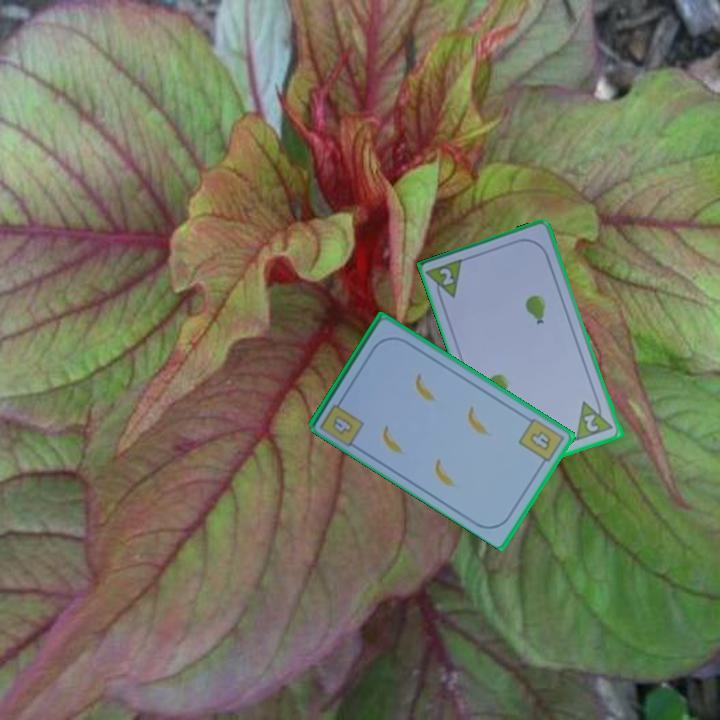2p: (424, 255, 467, 306), (573, 394, 617, 443)
4b: (515, 414, 567, 469), (329, 411, 356, 437)
